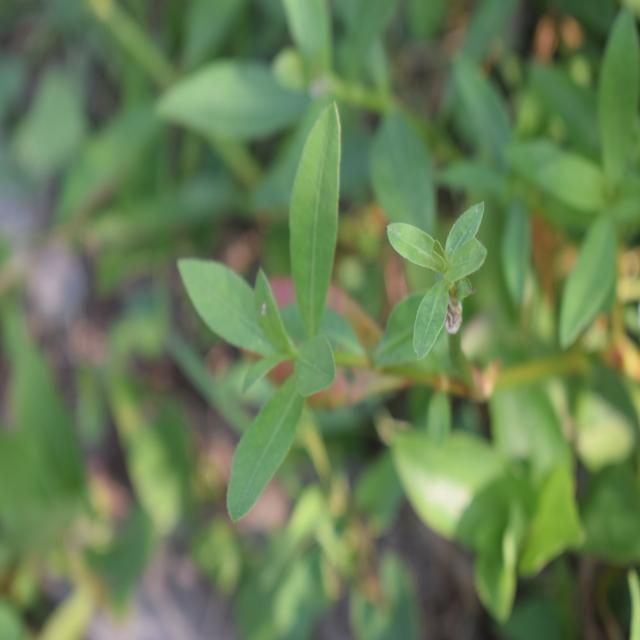Alligatorweed: (180, 120, 384, 493), (366, 171, 524, 396)
